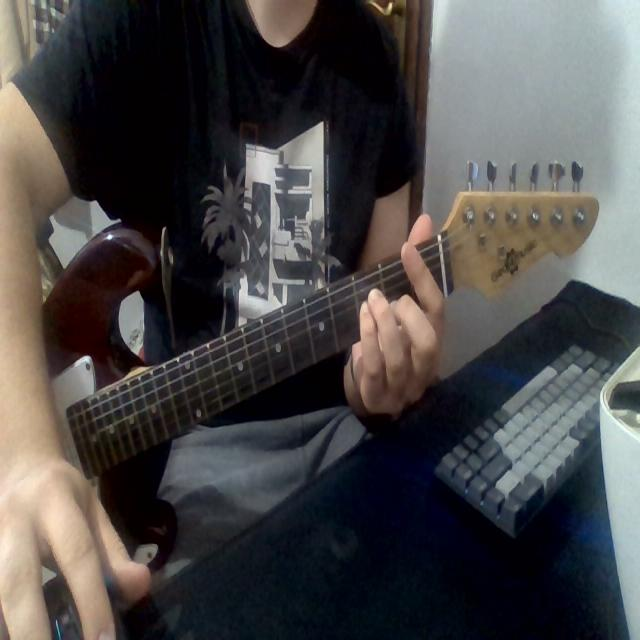F: (337, 213, 475, 405)
